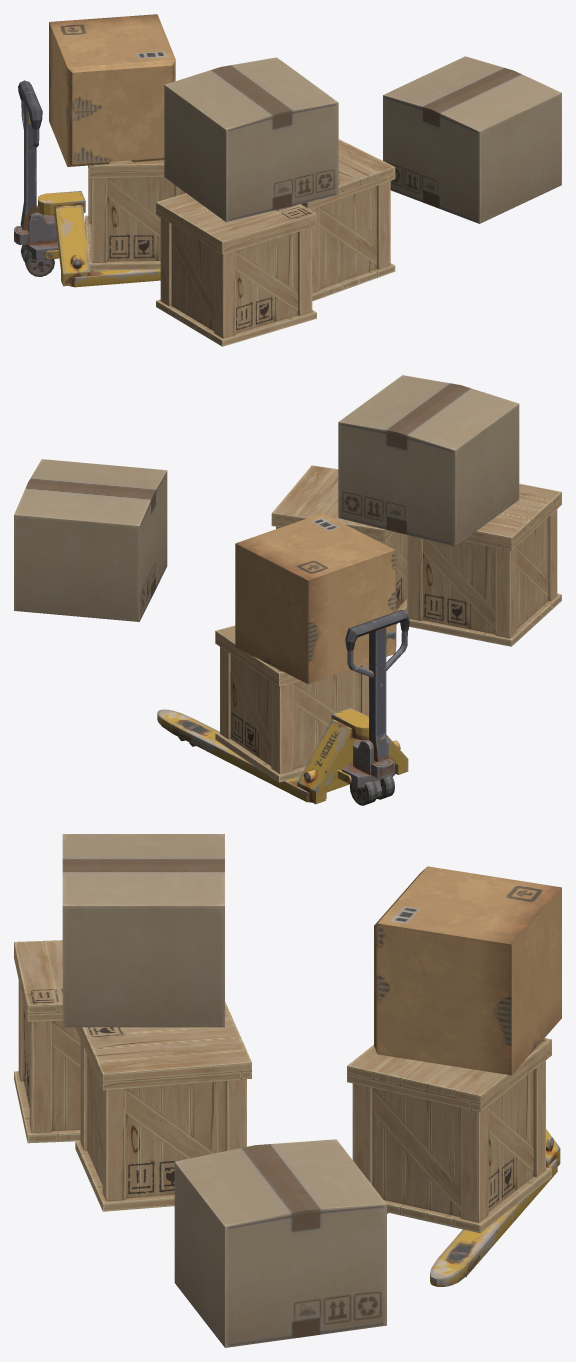
File: P_NEWMaket01_after10.obj
3 renders of one model, top to bottom at view 1: azimuth 30°, elevation 25°; view 2: azimuth 150°, elevation 25°; view 3: azimuth 270°, elevation 25°, orthographic. The views are drawn at different scales.
Size of the model in its own units: 2.79 by 1.56 by 2.28.
7 materials, 7 textured.
